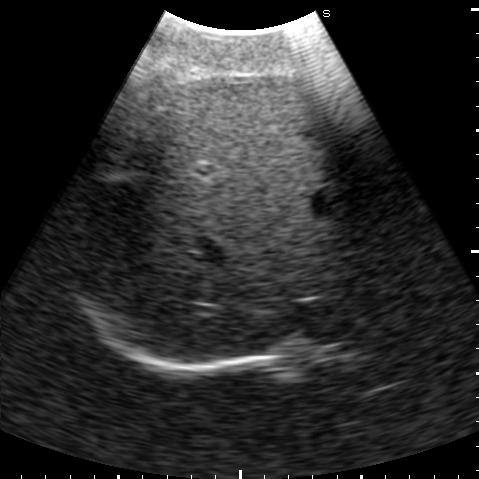S5: (134, 75, 339, 181)
S7: (90, 151, 182, 313)
S8: (159, 171, 380, 360)
